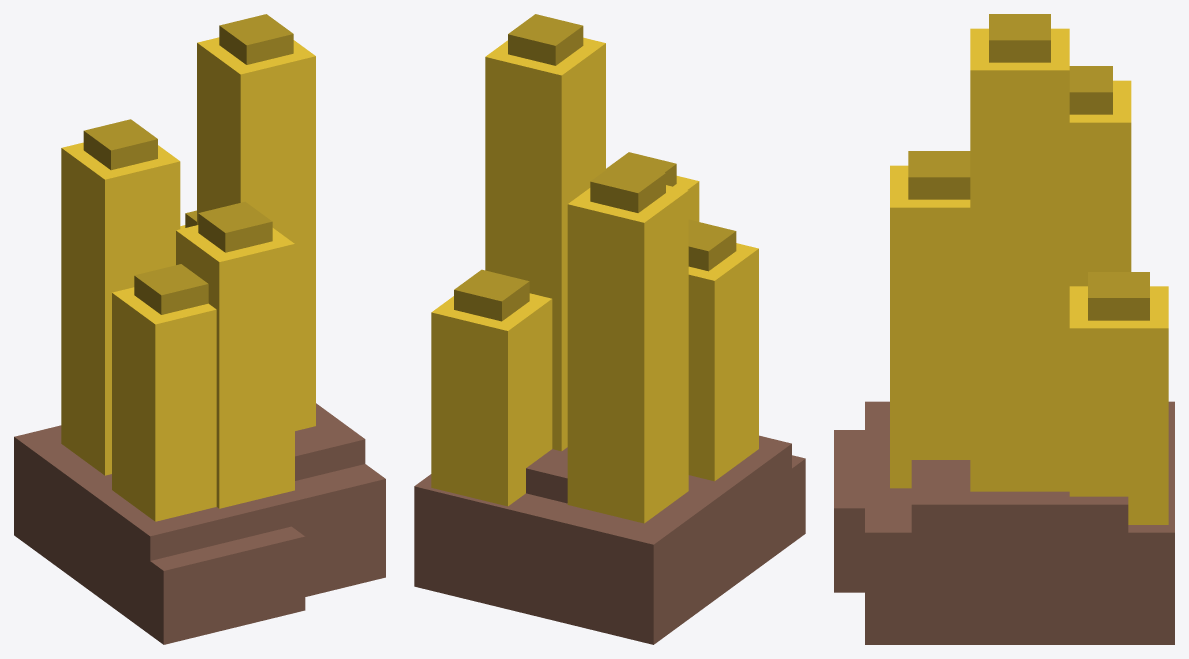
File: TubeCoral_Yellow.glb
3 views of the same model, side by side, from view 1: azimuth 30°, elevation 25°; view 2: azimuth 150°, elevation 25°; view 3: azimuth 270°, elevation 25° (orthographic). The views are drawn at different scales.
Parts seen in each view (by area): view 1: TubeCoral_Yellow; view 2: TubeCoral_Yellow; view 3: TubeCoral_Yellow.
Boxes of the visible parts, bbox=[...] form: TubeCoral_Yellow: bbox=[14, 14, 385, 644]; TubeCoral_Yellow: bbox=[414, 14, 805, 644]; TubeCoral_Yellow: bbox=[834, 14, 1174, 644].
Size of the model in its own units: 5 by 10.4 by 5.5.
1 material, 1 textured.
